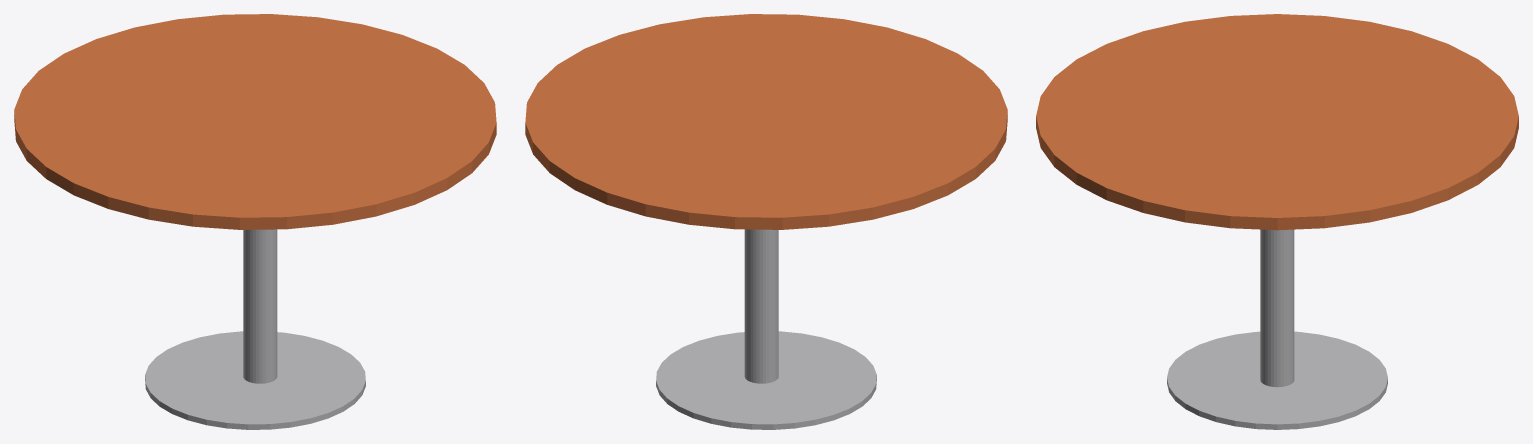
The model's file is RundTisch.fbx.
3 renders of one model, left to right at view 1: azimuth 30°, elevation 25°; view 2: azimuth 150°, elevation 25°; view 3: azimuth 270°, elevation 25°, orthographic.
Parts seen in each view (by area): view 1: RundTisch; view 2: RundTisch; view 3: RundTisch.
Part boxes in pixels (x1,y1,x2,y2): RundTisch: (14, 14, 496, 429); RundTisch: (525, 14, 1007, 429); RundTisch: (1036, 14, 1518, 429).
Bounding box in the file's own units: 109 × 69.93 × 109.
